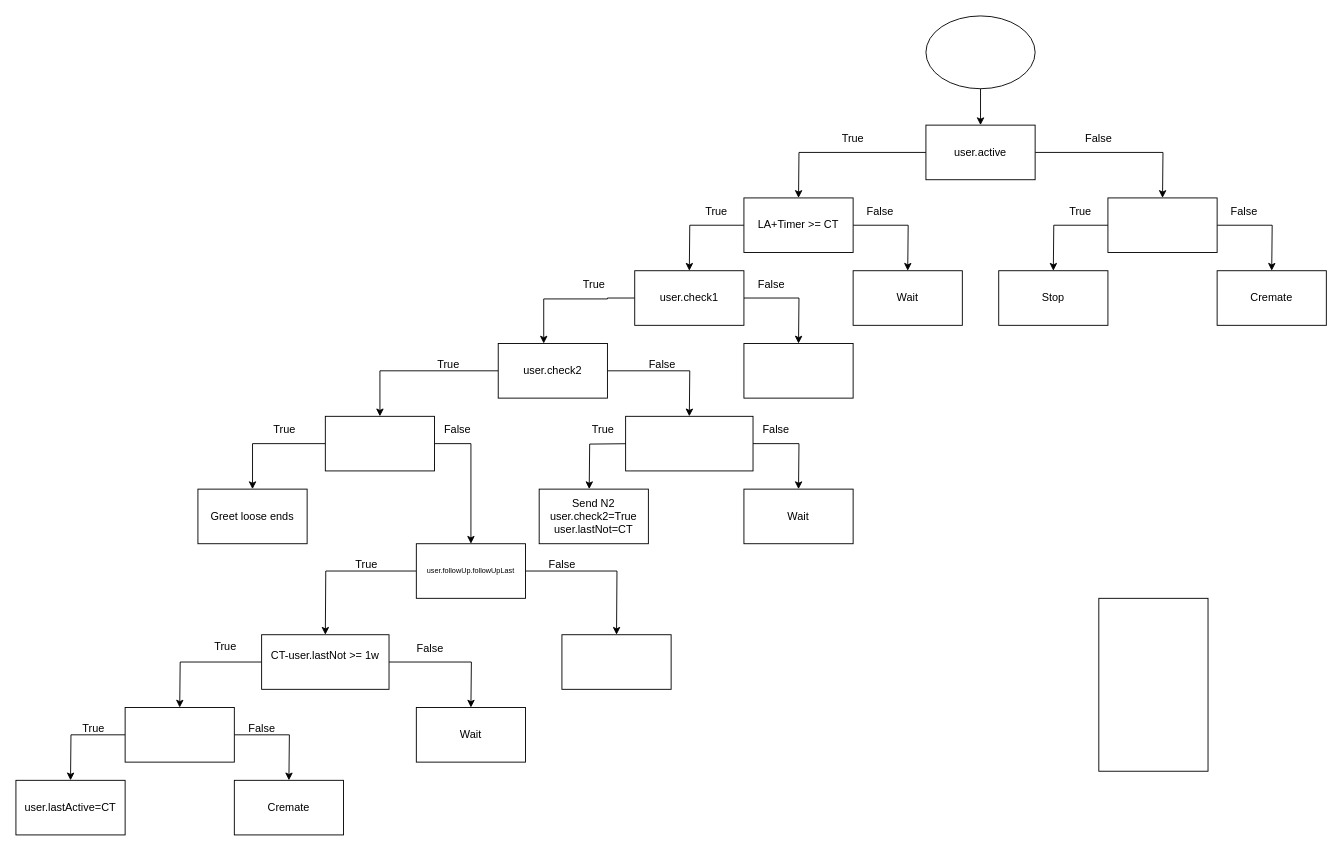
This 1342x851 diagram has some shape labels left out. The box of each missing label's shape, as (x1, y1, x2, y2) in pixels:
CT = Current time LA= Last active: (1098, 597, 1208, 771)
CT-user.lastNot>=1week: (625, 415, 753, 471)
Send FollowUpNot user.lastNot = CT user.FollowUp = true: (561, 634, 671, 689)
Send N1 user.check1=True user.lastNot = CT: (743, 343, 853, 398)
Start: (925, 15, 1035, 89)
user.contact == Null: (324, 415, 435, 471)
user.followResponse: (124, 707, 234, 762)
user.lastAffairs: (1107, 197, 1217, 253)
